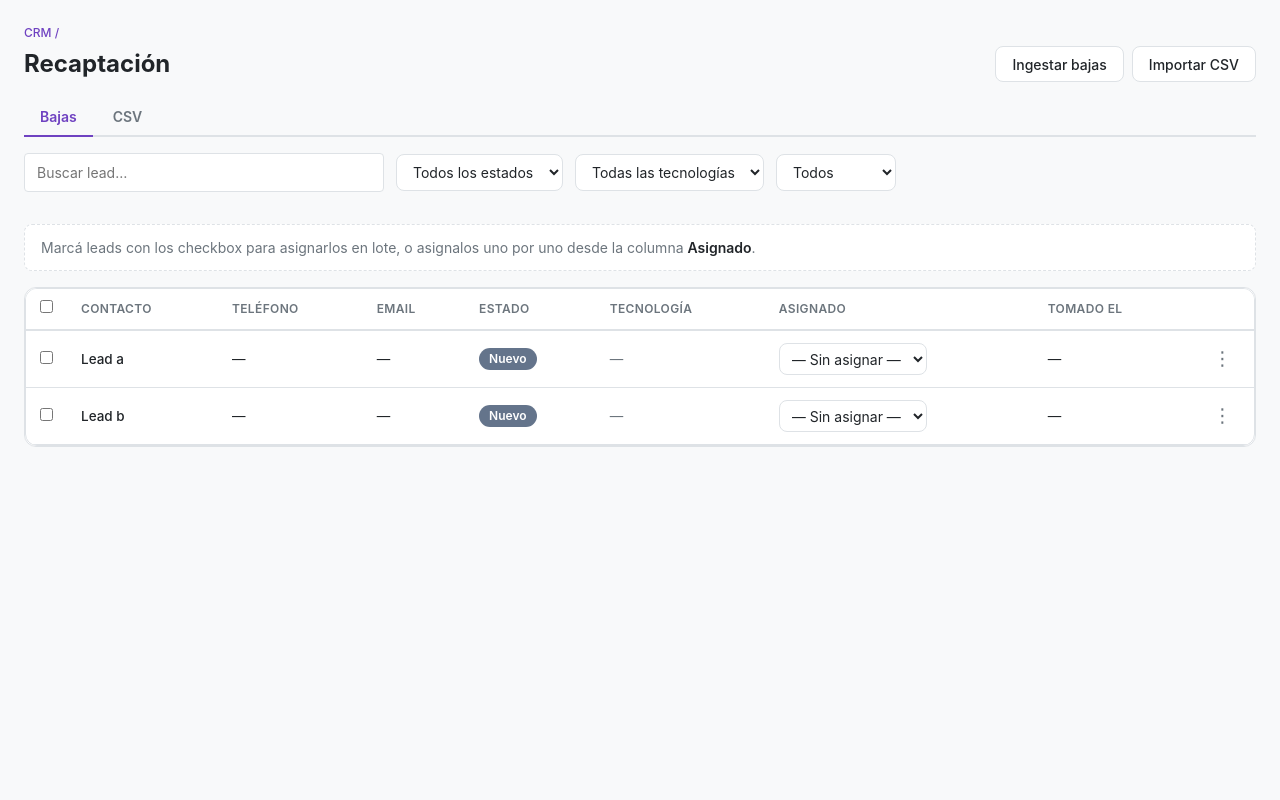
Scenario: RecaptacionPage — admin (recapture.assign) › A4 — success toasts the returned assigned count and clears selection
The image size is (1280, 800).
Click the checkbox named "Seleccionar fila a" at (46,357), box [40,351,53,364]
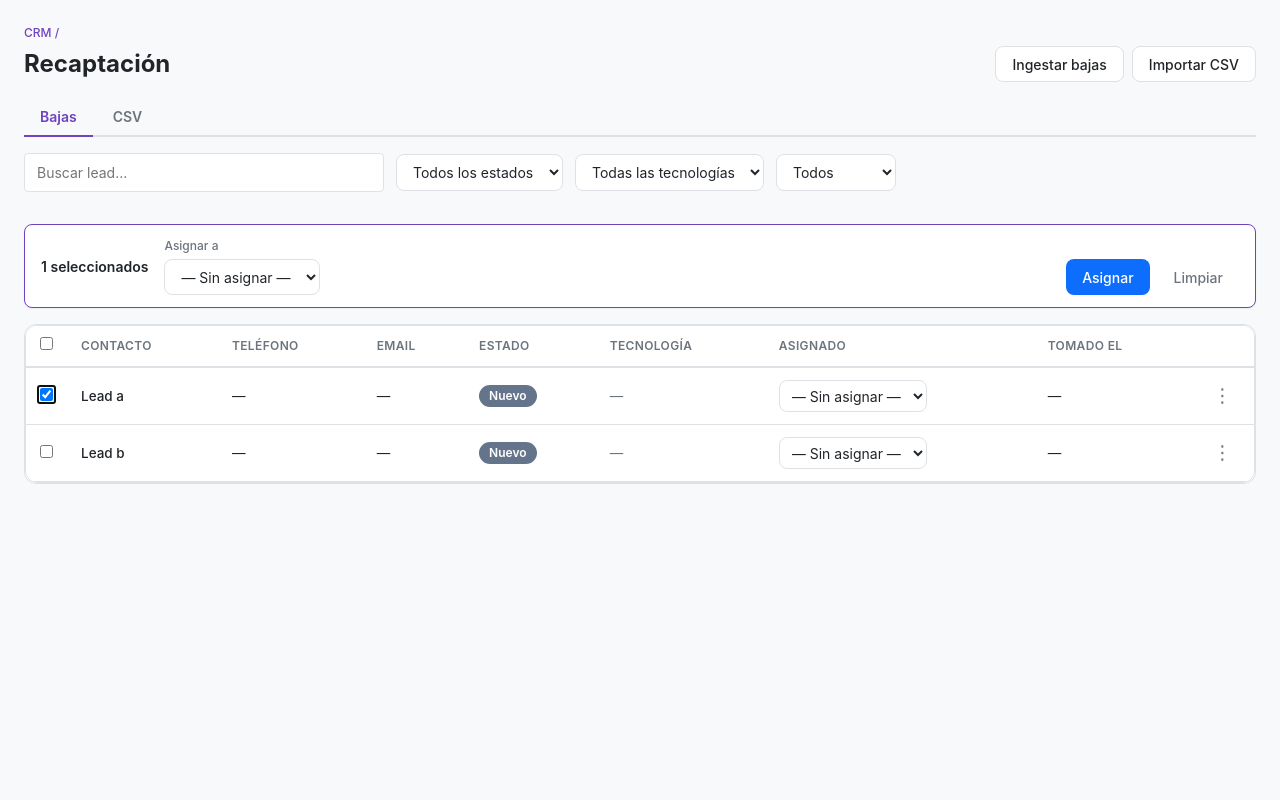
Click the checkbox named "Seleccionar fila b" at (46,451), box [40,445,53,458]
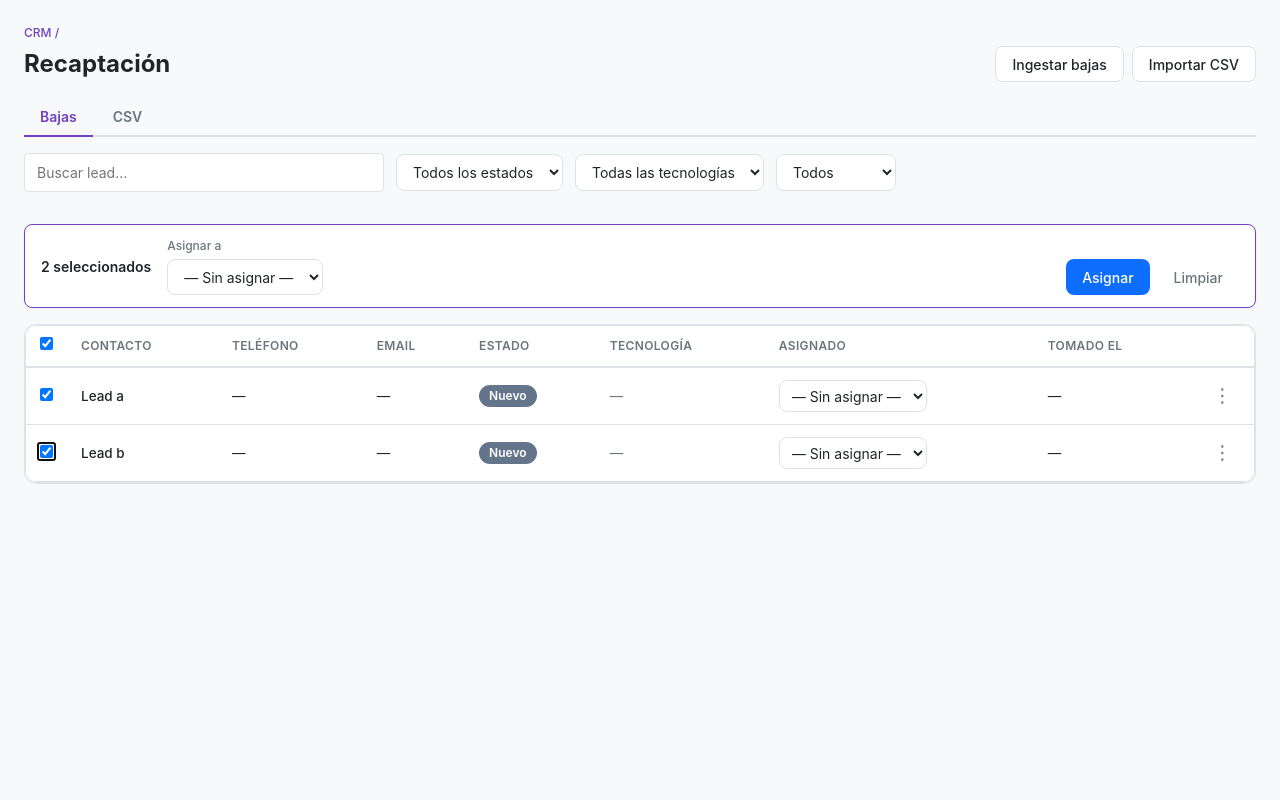
Select "Operador Uno" in the dropdown labelled "Asignar a" at (245,277), box [167,259,323,295]
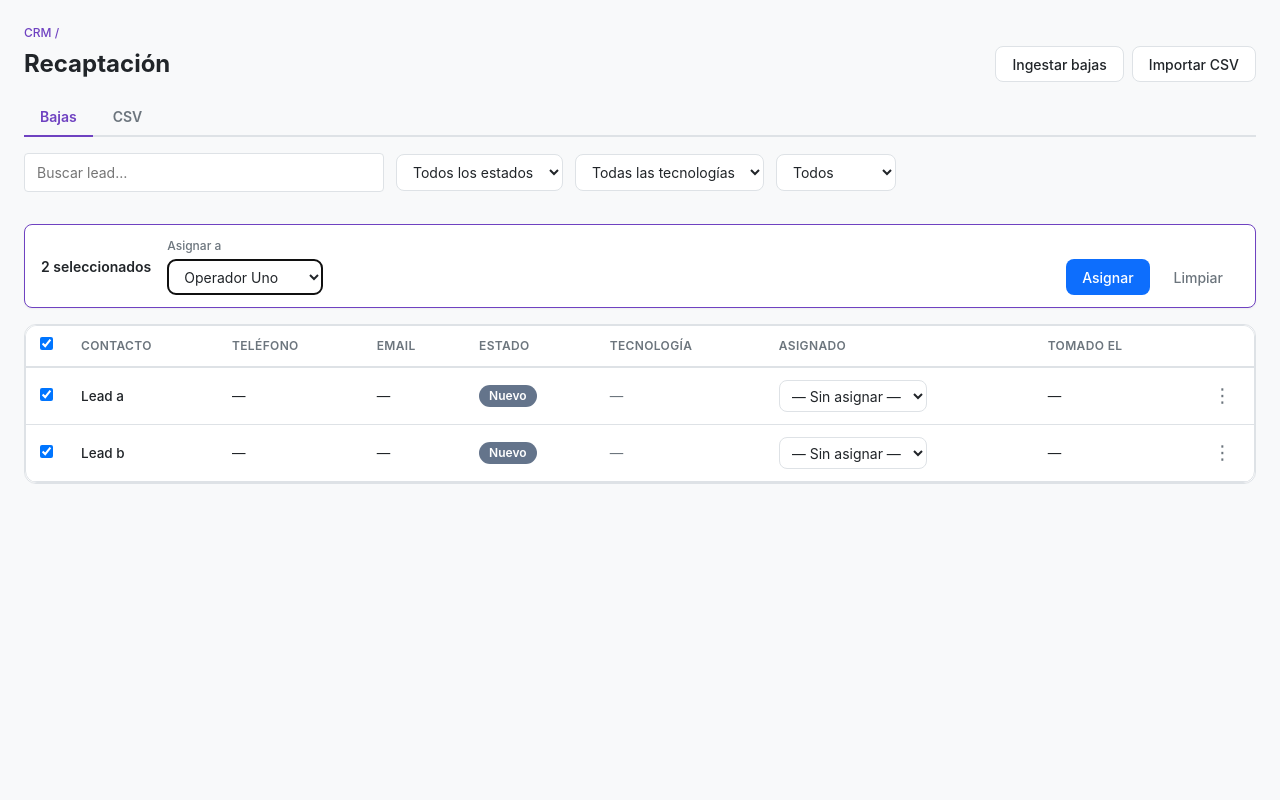
Click the button "Asignar" at (1108,277), box [1066,259,1150,295]
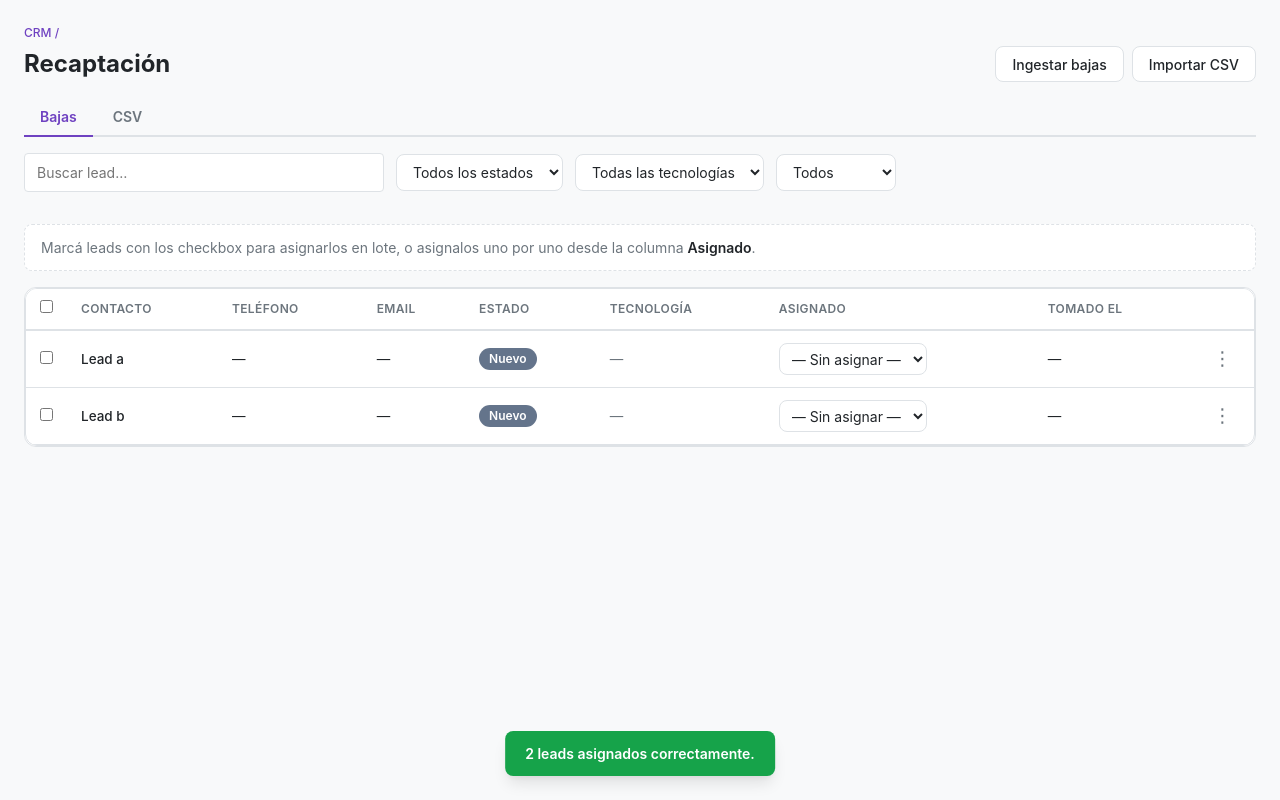
Check: the text "2 leads asignados correctamente." is shown, box [505,731,775,776]
